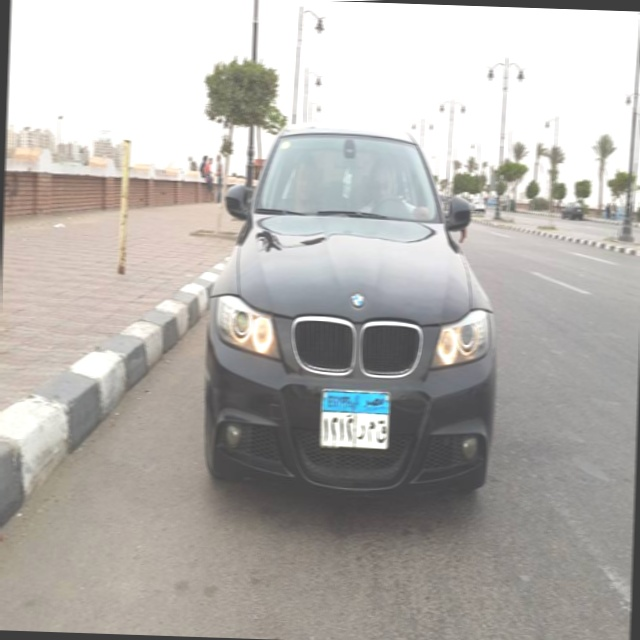License Plate: (317, 386, 392, 450)
